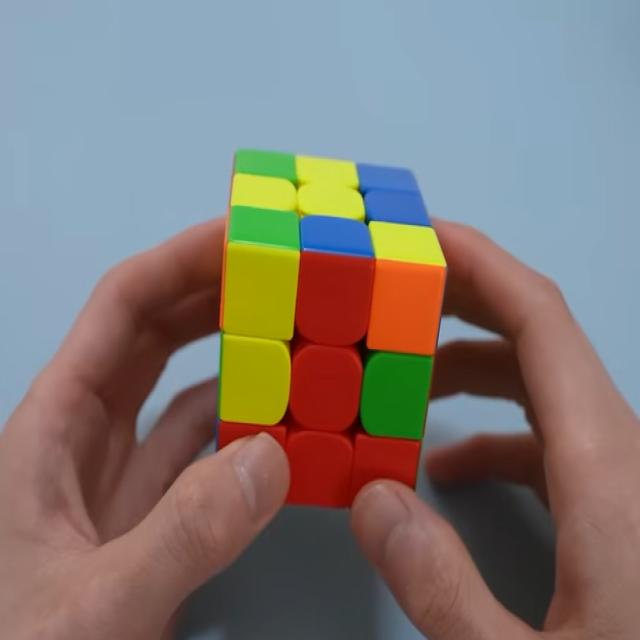Cubo-No-resuelto: (218, 147, 446, 505)
